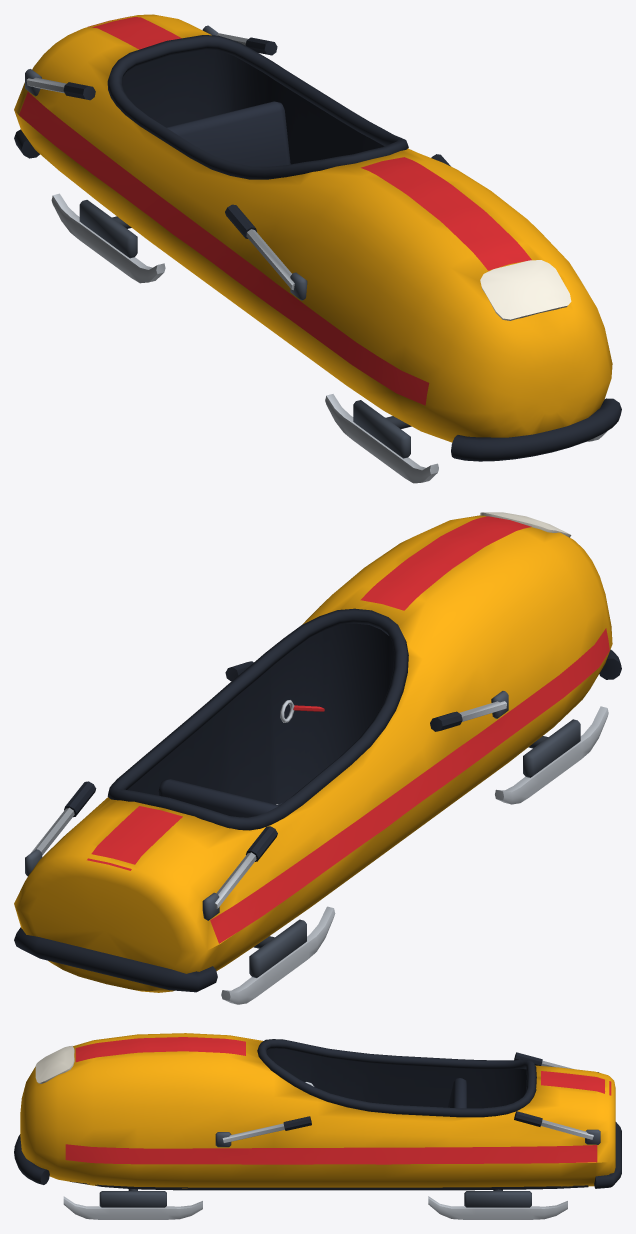
File: monobob.glb
3 renders of one model, top to bottom at view 1: azimuth 30°, elevation 25°; view 2: azimuth 150°, elevation 25°; view 3: azimuth 270°, elevation 25°, orthographic. The views are drawn at different scales.
Visible parts, largest first — view 1: Sled; view 2: Sled; view 3: Sled.
Boxes of the visible parts, <box> form: Sled: <box>14,14,621,483</box>; Sled: <box>14,512,621,1004</box>; Sled: <box>14,1033,621,1219</box>.
Bounding box in the file's own units: 0.7452 × 0.7245 × 2.7.
